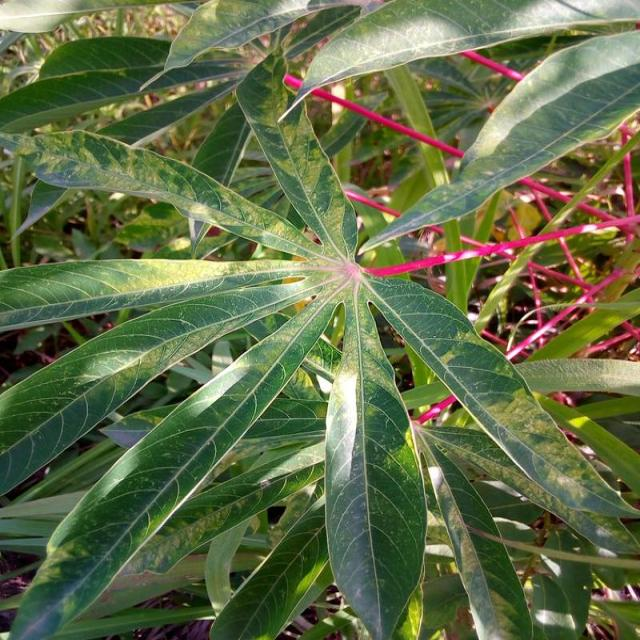Mosaico: (56, 73, 601, 566)
